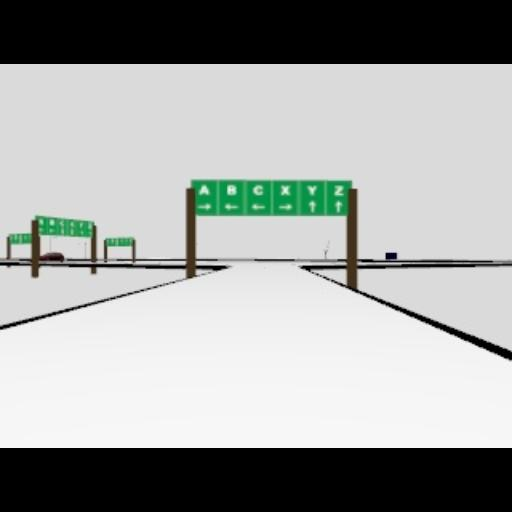A: (198, 183, 210, 197)
B: (226, 184, 238, 196)
C: (252, 184, 264, 196)
Left: (223, 202, 239, 212), (250, 204, 266, 212)
Right: (278, 203, 294, 213), (198, 202, 212, 212)
Straight: (307, 200, 317, 214), (335, 200, 343, 214)
X: (280, 184, 292, 196)
Y: (306, 184, 318, 196)
Z: (332, 184, 346, 196)
